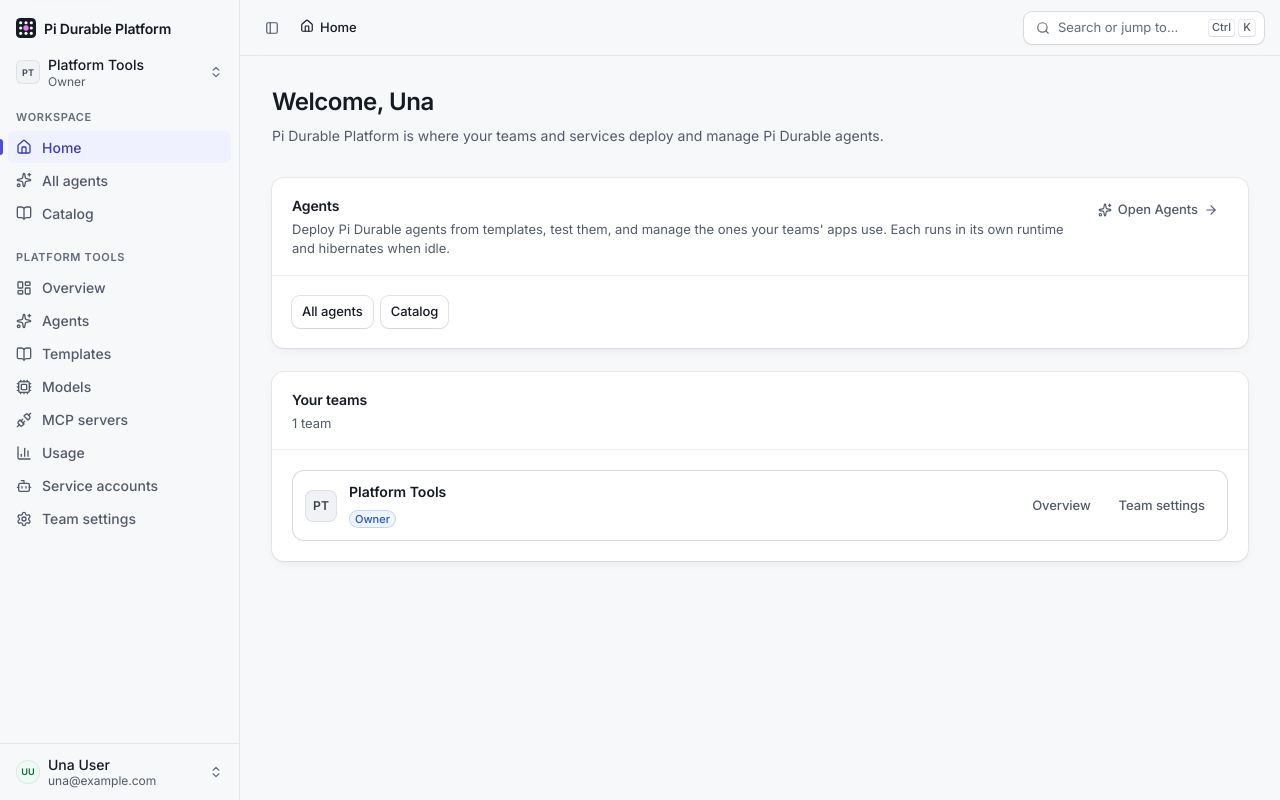
Test: command palette › opens with Ctrl+K and navigates to a team
Expected: the heading "Welcome, Una" is shown, [272, 88, 434, 117]
Type keys "{Control>}k{/Control}"
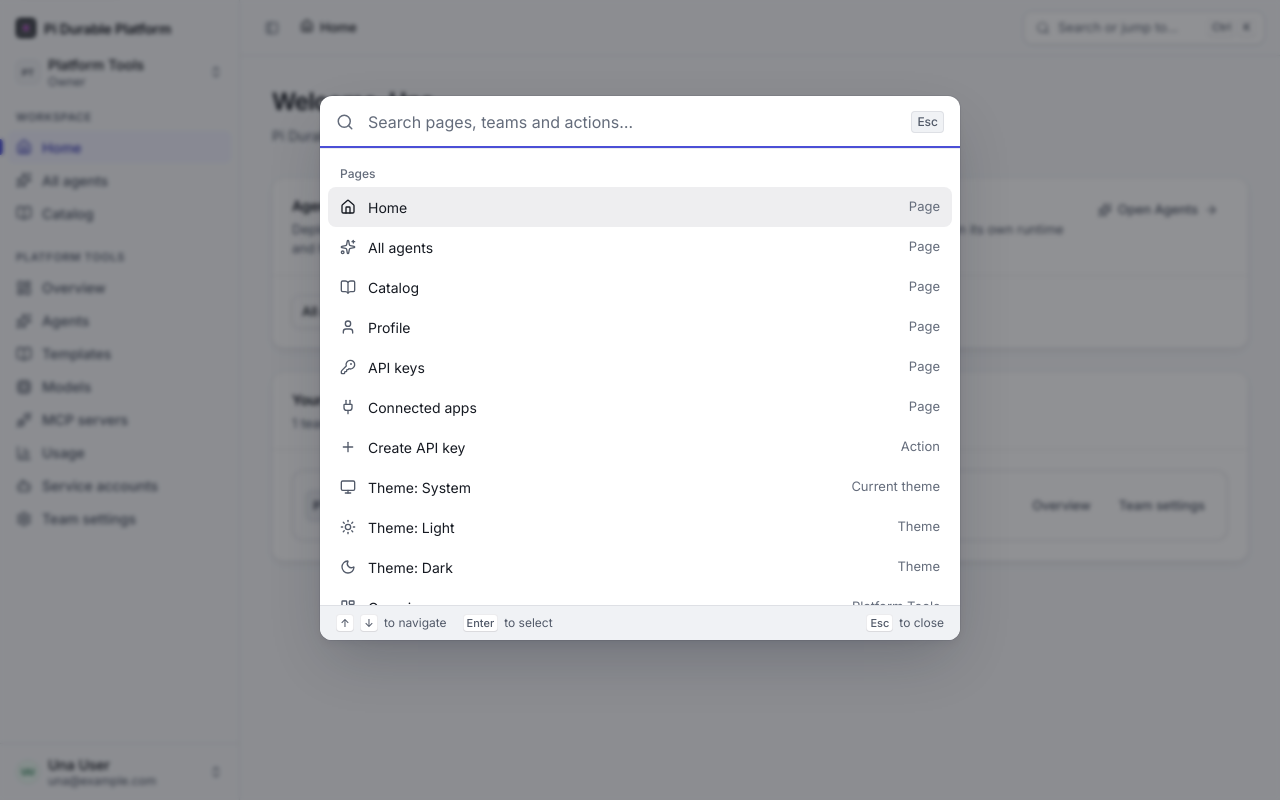
Type "Platform Tools" into the dropdown named "Command palette".
click(633, 122); type("Platform Tools")  # box [366, 96, 899, 148]
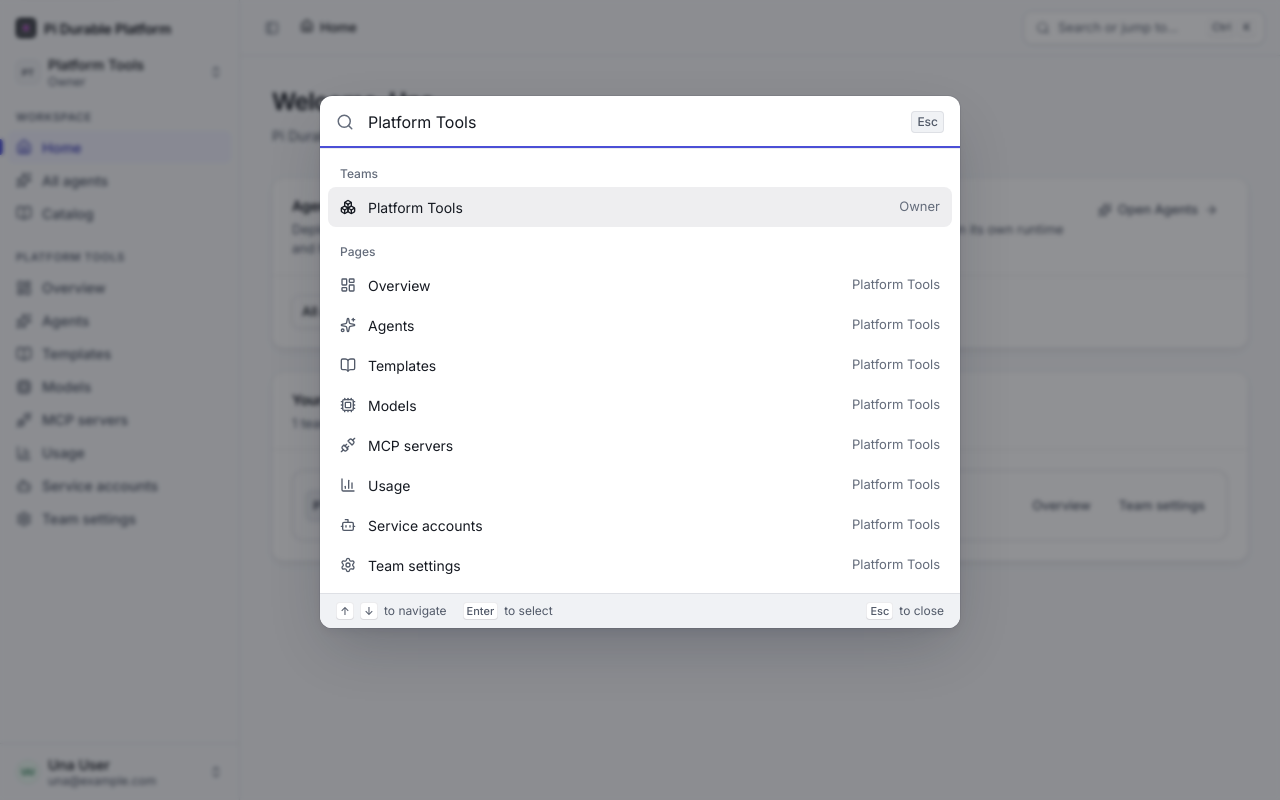
Press Enter
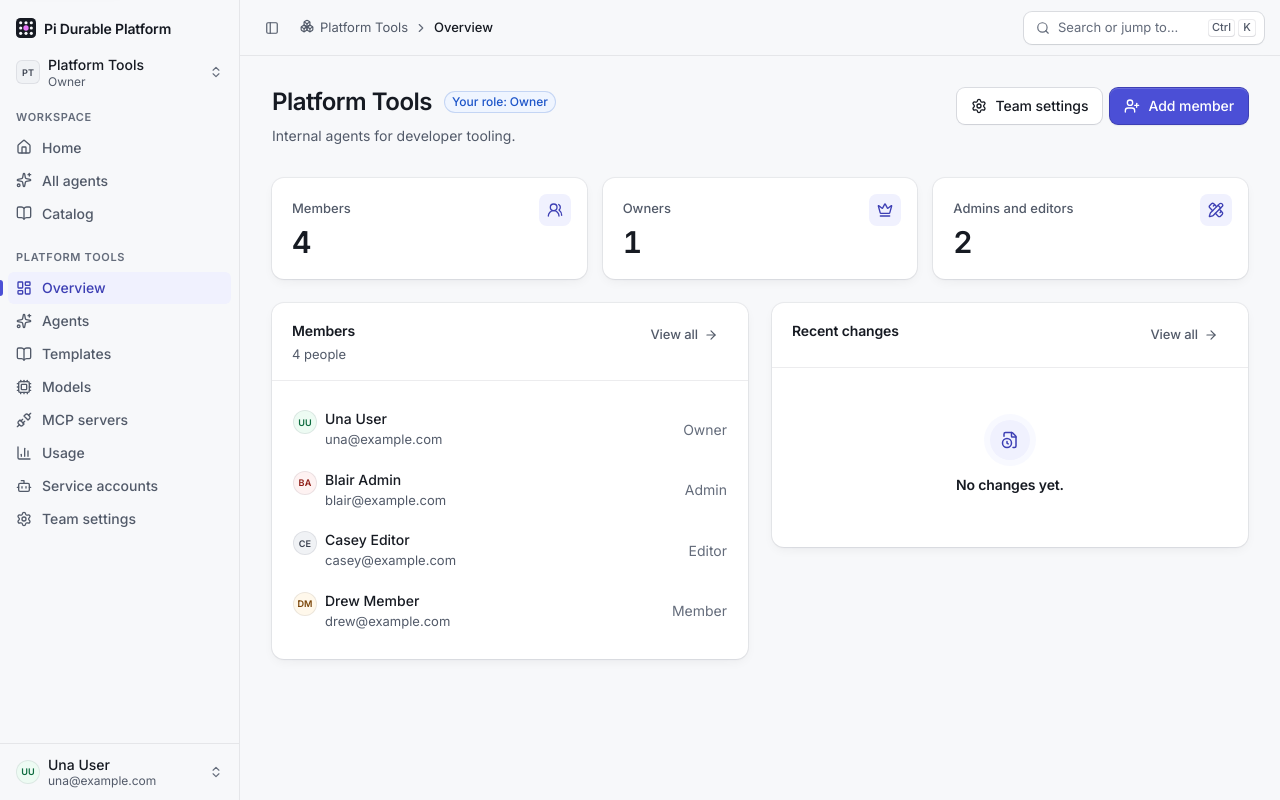
Expected: the heading "Platform Tools" is shown, [272, 88, 432, 117]
